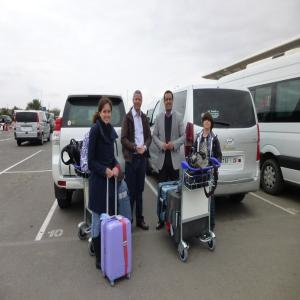Vehicle-registration-plate: (221, 158, 239, 167), (24, 128, 31, 131)
